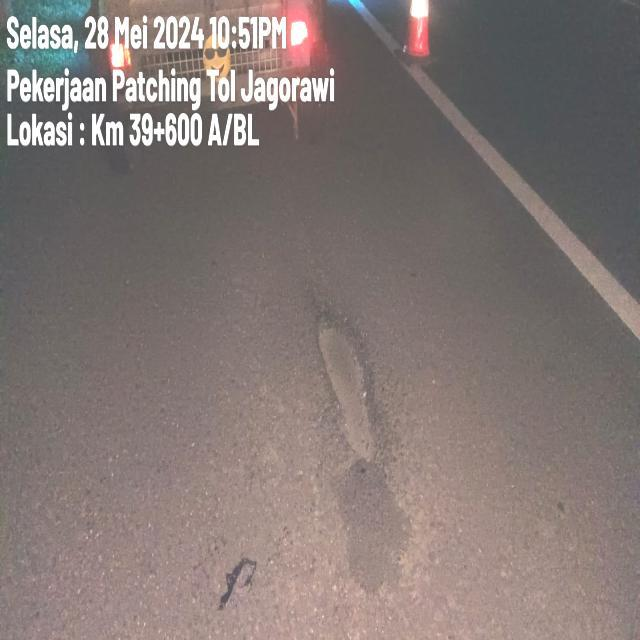Buraco: (309, 307, 384, 475)
